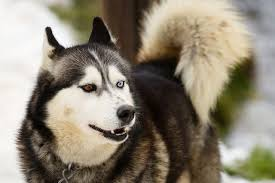husky: (25, 11, 138, 155)
